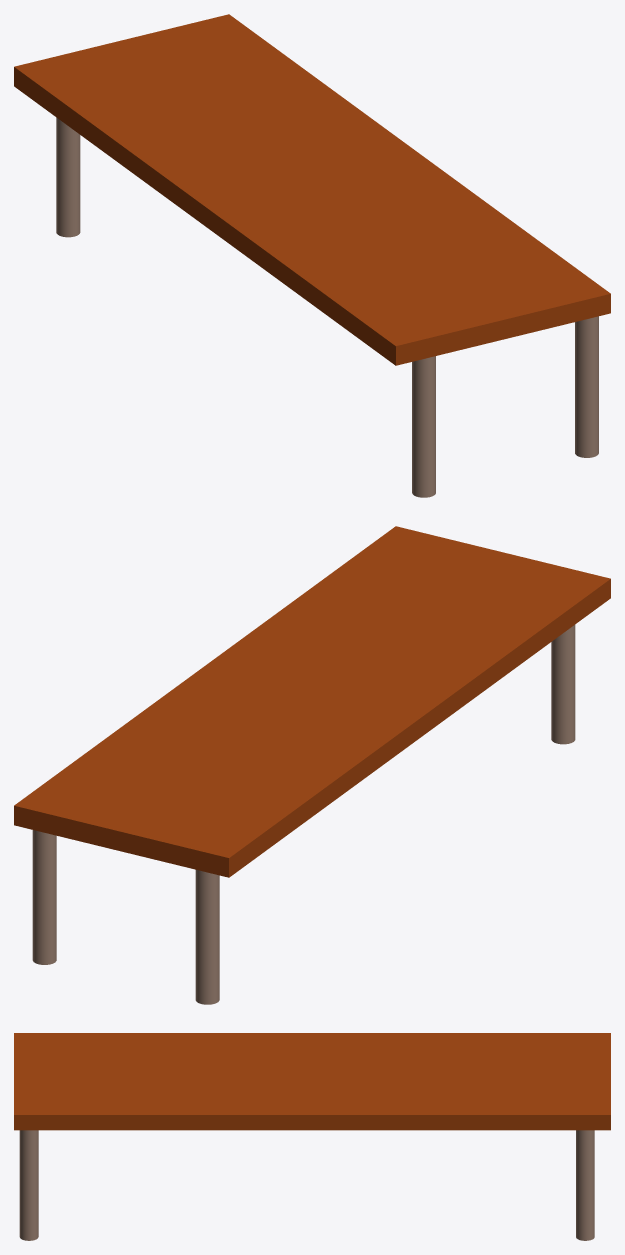
Rendered from Desk.fbx.
The picture shows the model from 3 angles, top to bottom: view 1: azimuth 30°, elevation 25°; view 2: azimuth 150°, elevation 25°; view 3: azimuth 270°, elevation 25°; orthographic projection. The views are drawn at different scales.
Visible parts, largest first — view 1: Desk; view 2: Desk; view 3: Desk.
Part boxes in pixels (x1,y1,x2,y2): Desk: [14, 14, 610, 497]; Desk: [14, 526, 610, 1004]; Desk: [14, 1033, 610, 1240].
Size of the model in its own units: 0.0367 by 0.0265 by 0.1128.
